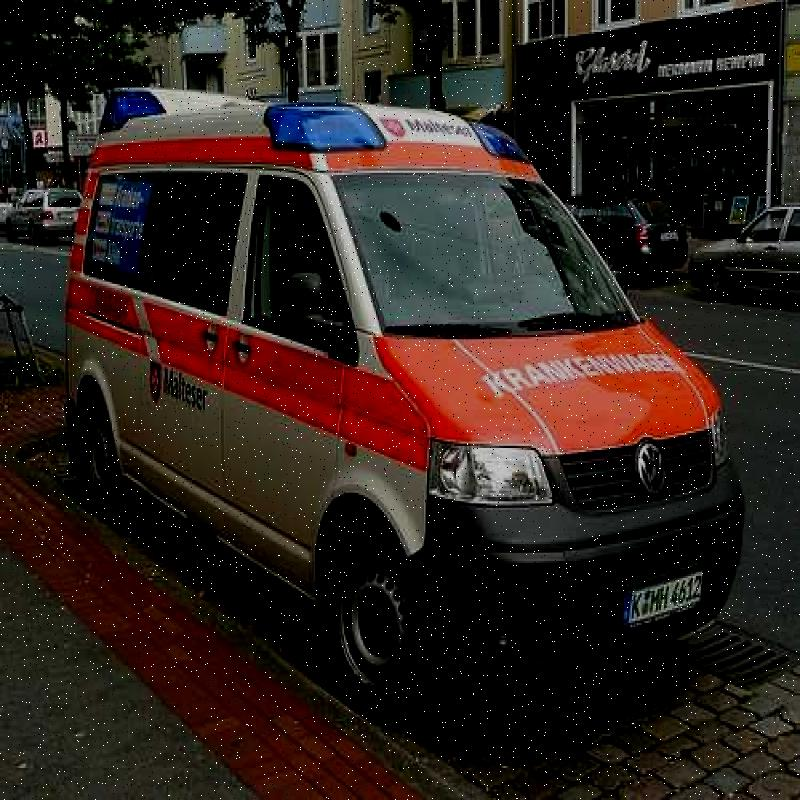AmbulanceSiren: (270, 75, 523, 183)
